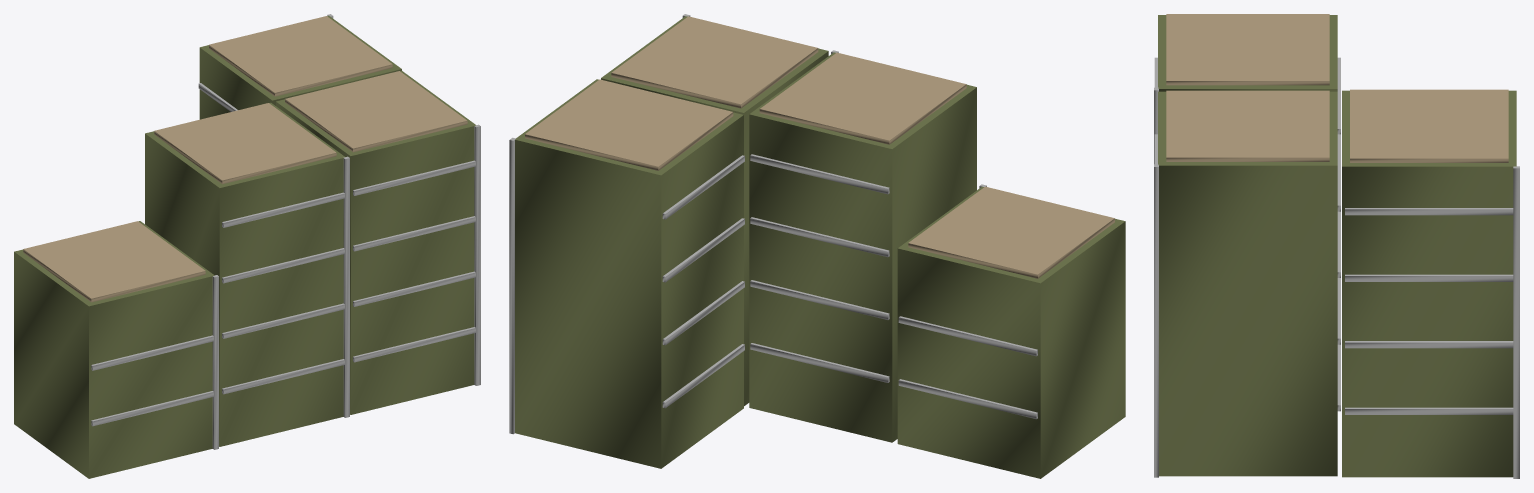
The model's file is SM_HescoRemateEspejo_v2_Escalonado_e0_Sano_LOD0.fbx.
The picture shows the model from 3 angles, left to right: view 1: azimuth 30°, elevation 25°; view 2: azimuth 150°, elevation 25°; view 3: azimuth 270°, elevation 25°; orthographic projection. The views are drawn at different scales.
Visible parts, largest first — view 1: SM_hesco_piezas_v28_LOD0; view 2: SM_hesco_piezas_v28_LOD0; view 3: SM_hesco_piezas_v28_LOD0.
Part boxes in pixels (x1=…): SM_hesco_piezas_v28_LOD0: x1=14, y1=14, x2=480, y2=478; SM_hesco_piezas_v28_LOD0: x1=509, y1=14, x2=1125, y2=478; SM_hesco_piezas_v28_LOD0: x1=1154, y1=14, x2=1519, y2=478.
Size of the model in its own units: 3.33 by 2.13 by 2.24.
